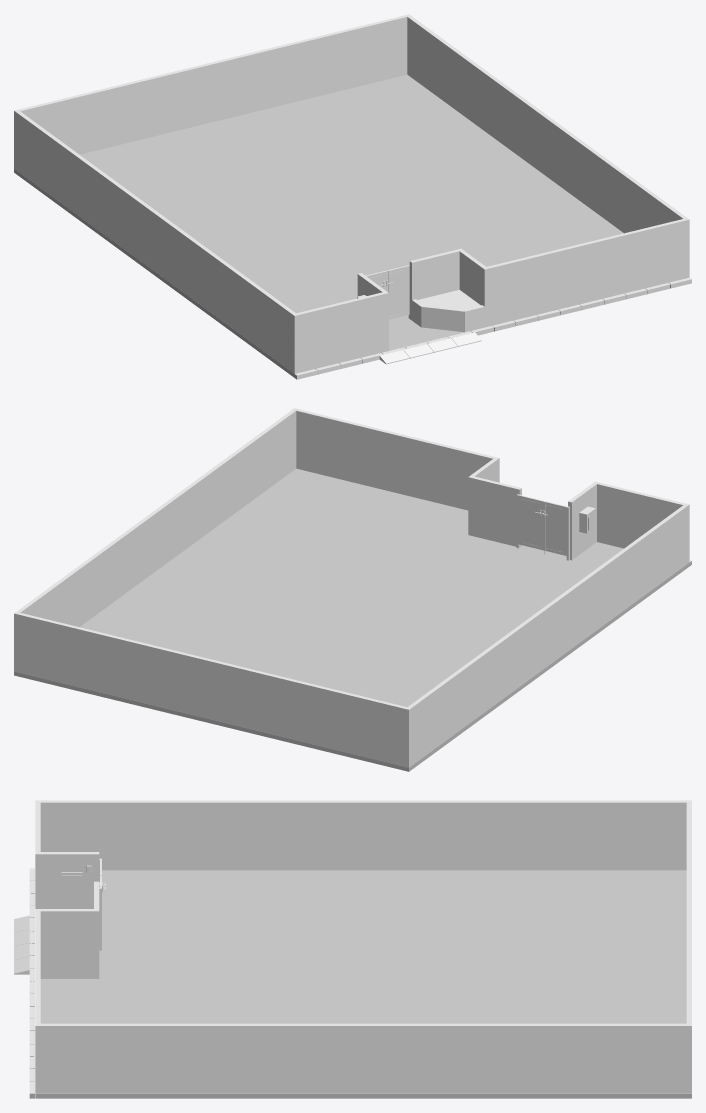
The model's file is Property_B2.fbx.
The picture shows the model from 3 angles, top to bottom: view 1: azimuth 30°, elevation 25°; view 2: azimuth 150°, elevation 25°; view 3: azimuth 270°, elevation 25°; orthographic projection. The views are drawn at different scales.
Parts seen in each view (by area): view 1: Ground.028, Wall.062, Wall.059, Wall.060, Wall.061, Door.372, Step.003; view 2: Ground.028, Wall.059, Wall.062, Wall.060, Wall.061, Door.372, Door.373; view 3: Ground.028, Wall.061, Wall.060, Wall.062, Wall.059, Step.003.
Boxes of the visible parts, x1=… form: Ground.028: x1=14, y1=74, x2=691, y2=379; Wall.062: x1=292, y1=218, x2=689, y2=373; Wall.059: x1=18, y1=15, x2=407, y2=154; Wall.060: x1=14, y1=109, x2=295, y2=371; Wall.061: x1=405, y1=14, x2=686, y2=233; Door.372: x1=385, y1=265, x2=409, y2=319; Step.003: x1=379, y1=332, x2=481, y2=364; Ground.028: x1=14, y1=468, x2=691, y2=771; Wall.059: x1=18, y1=613, x2=406, y2=766; Wall.062: x1=292, y1=408, x2=689, y2=563; Wall.060: x1=405, y1=505, x2=687, y2=767; Wall.061: x1=14, y1=410, x2=296, y2=672; Door.372: x1=518, y1=495, x2=543, y2=549; Door.373: x1=542, y1=501, x2=567, y2=555; Ground.028: x1=29, y1=868, x2=691, y2=1098; Wall.061: x1=40, y1=1023, x2=691, y2=1093; Wall.060: x1=40, y1=800, x2=691, y2=870; Wall.062: x1=35, y1=800, x2=101, y2=1093; Wall.059: x1=686, y1=802, x2=691, y2=1023; Step.003: x1=14, y1=915, x2=29, y2=974.
Bounding box in the file's own units: 1000 × 150 × 1270.
